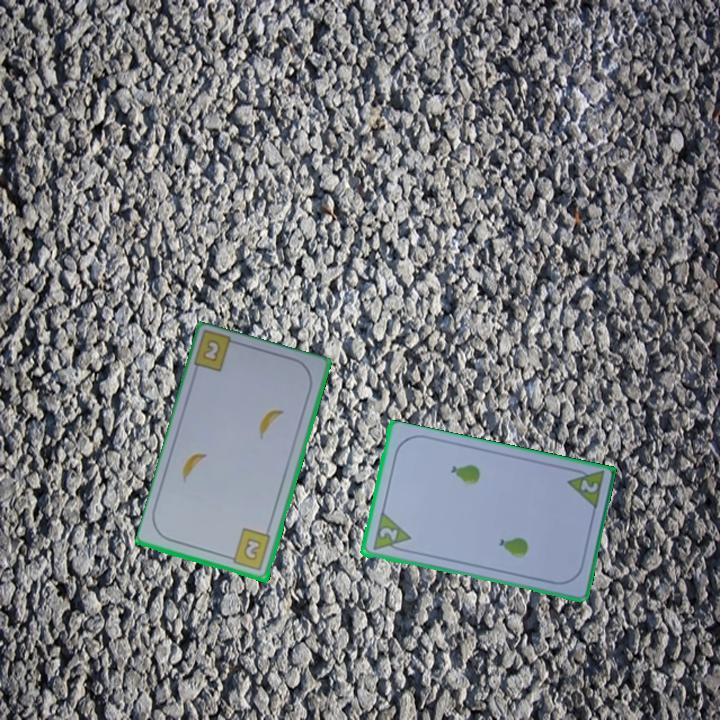2b: (224, 525, 274, 574), (199, 336, 224, 365)
2p: (562, 464, 607, 513), (369, 510, 413, 556)
